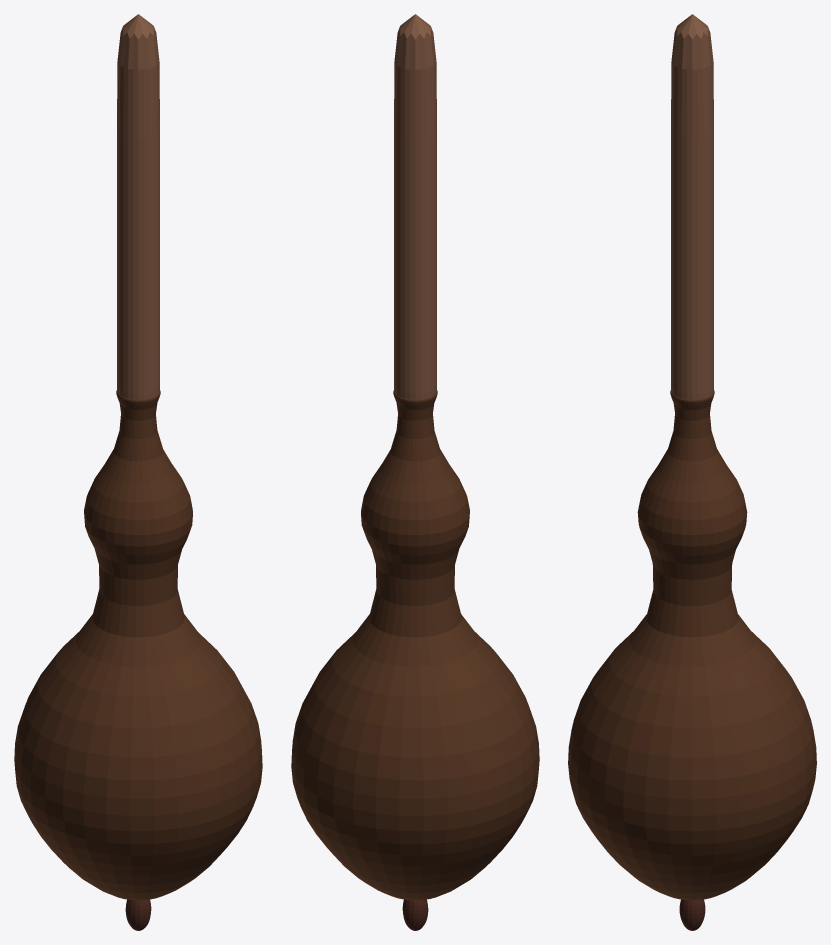
The model's file is Wand 616.glb.
3 views of the same model, side by side, from view 1: azimuth 30°, elevation 25°; view 2: azimuth 150°, elevation 25°; view 3: azimuth 270°, elevation 25° (orthographic).
Visible parts, largest first — view 1: GeneratedWand; view 2: GeneratedWand; view 3: GeneratedWand.
Boxes of the visible parts, left/top/right/bottom form: GeneratedWand: left=14, top=14, right=262, bottom=930; GeneratedWand: left=291, top=14, right=539, bottom=930; GeneratedWand: left=568, top=14, right=816, bottom=930.
Size of the model in its own units: 0.123 by 0.4995 by 0.123.
